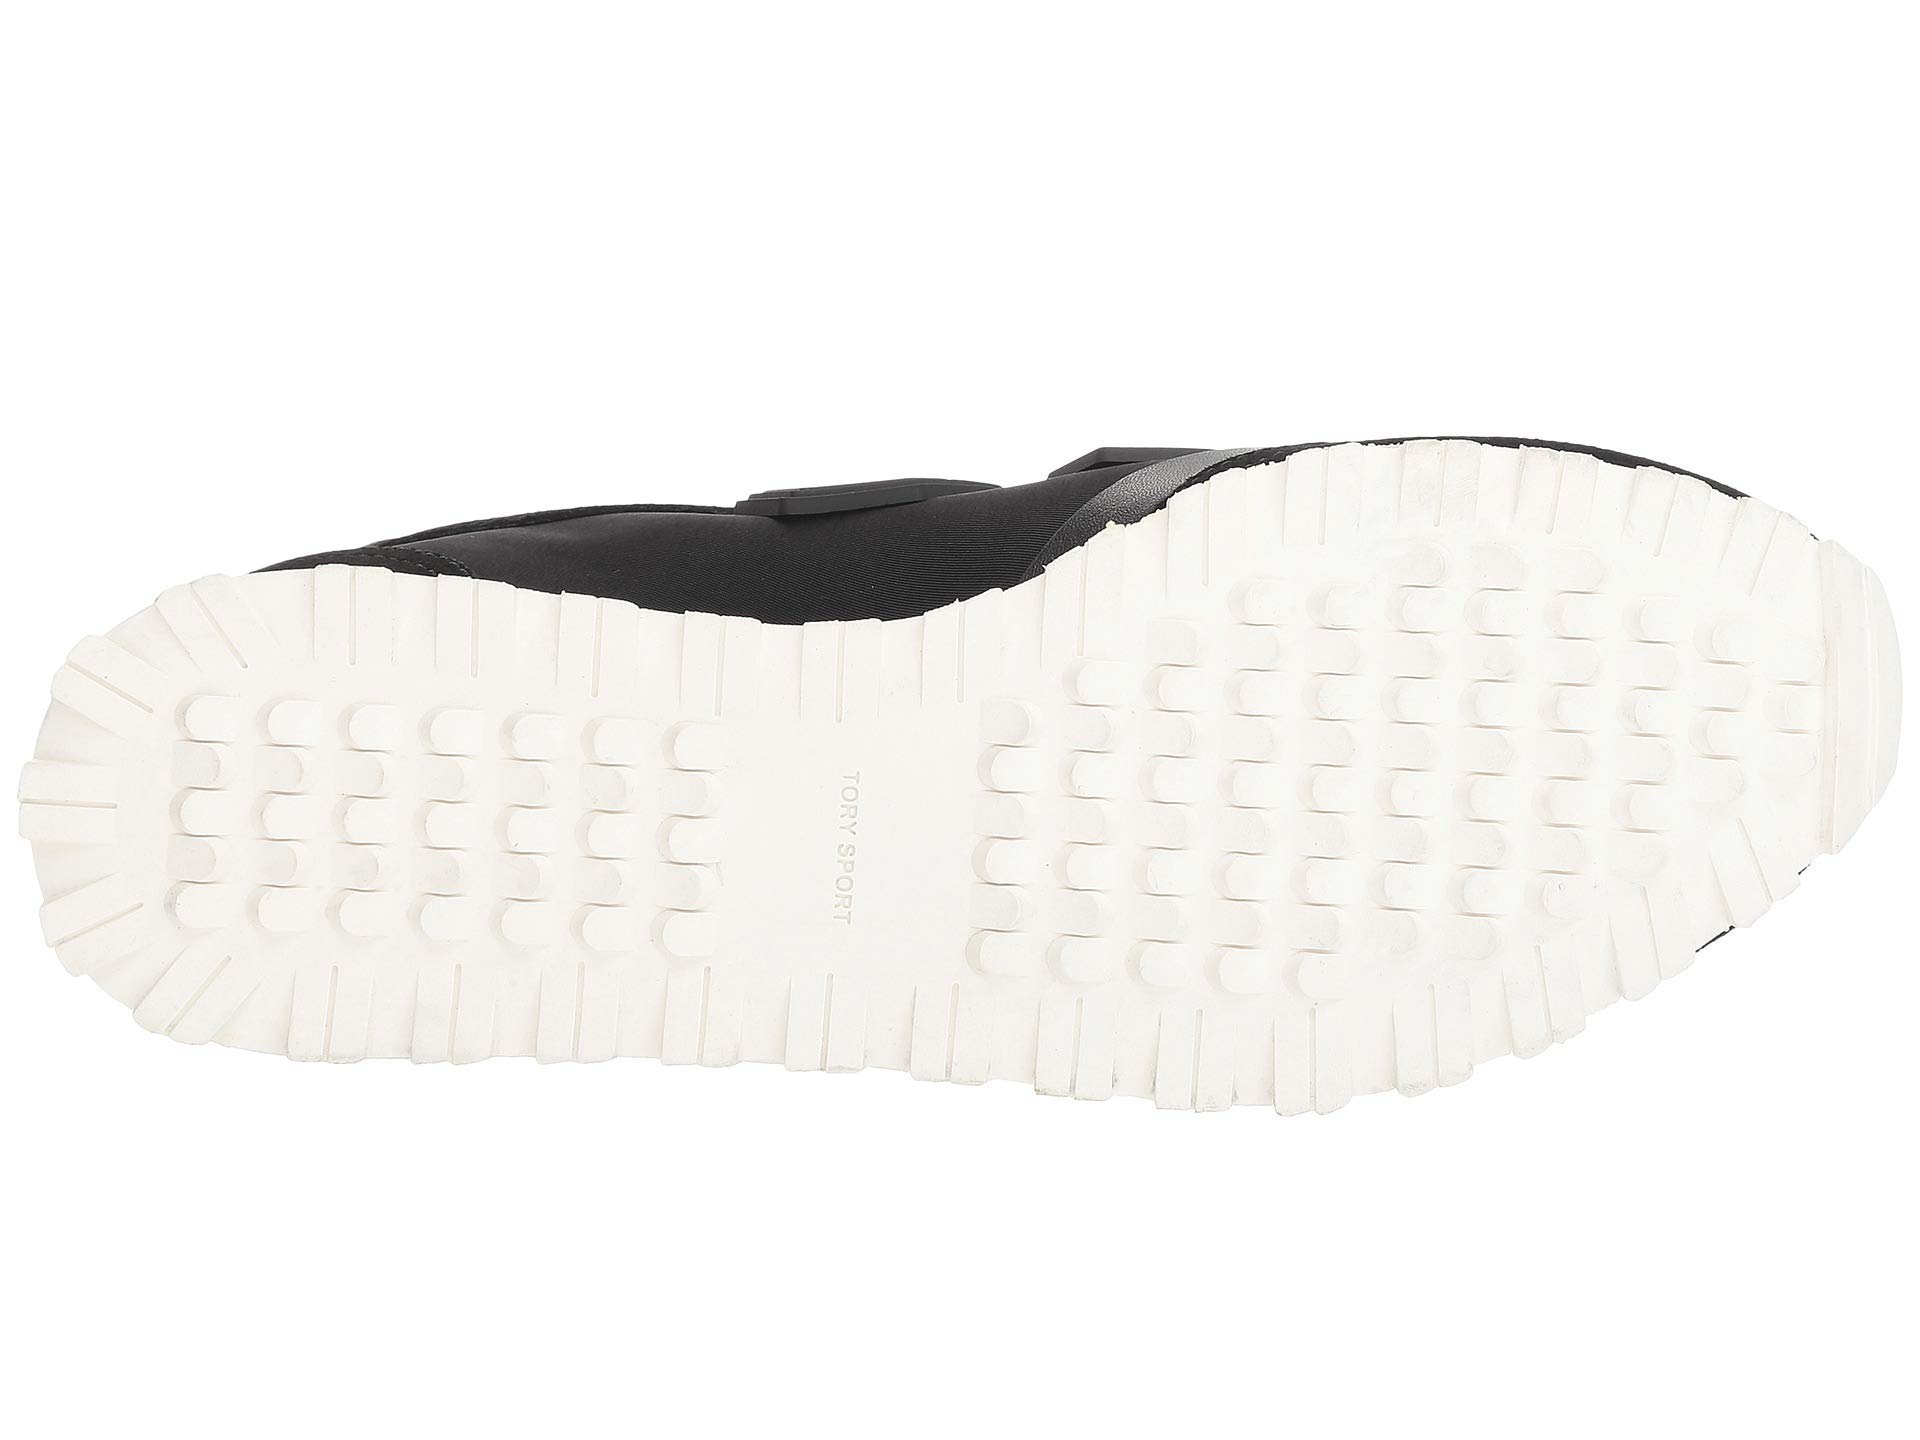chevron: (463, 706, 750, 948)
circle: (782, 740, 986, 953)
quad: (646, 957, 776, 1091)
text: (782, 740, 986, 953)
